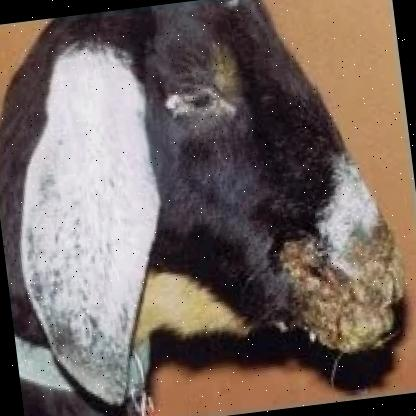ppr: (275, 234, 408, 356)
